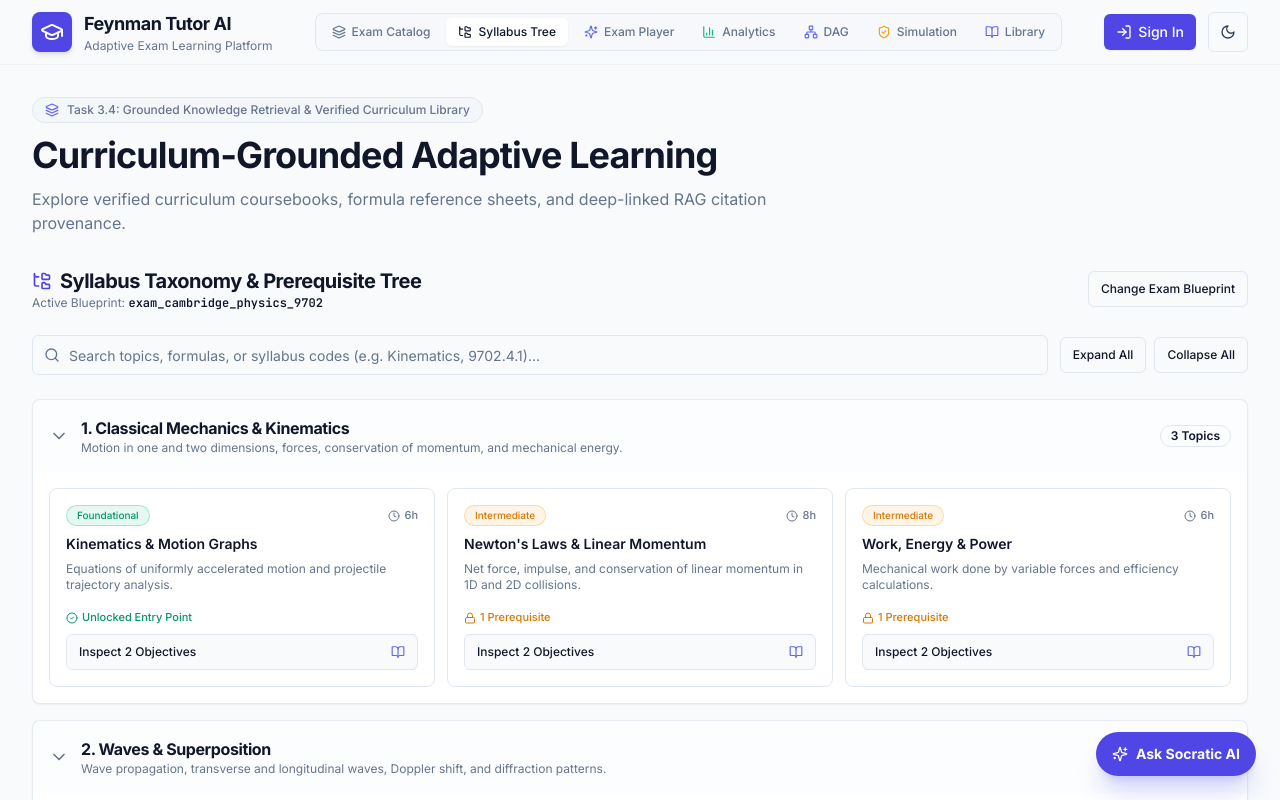
Socratic AI Tutor Drawer Suite › opens Socratic AI Tutor drawer when clicking floating action button
What coordinates should you click on to do the following:
click the button with aria-label "Open Socratic AI Tutor"
I would click on:
 (1176, 754)
Its box is [1096,732,1256,776].
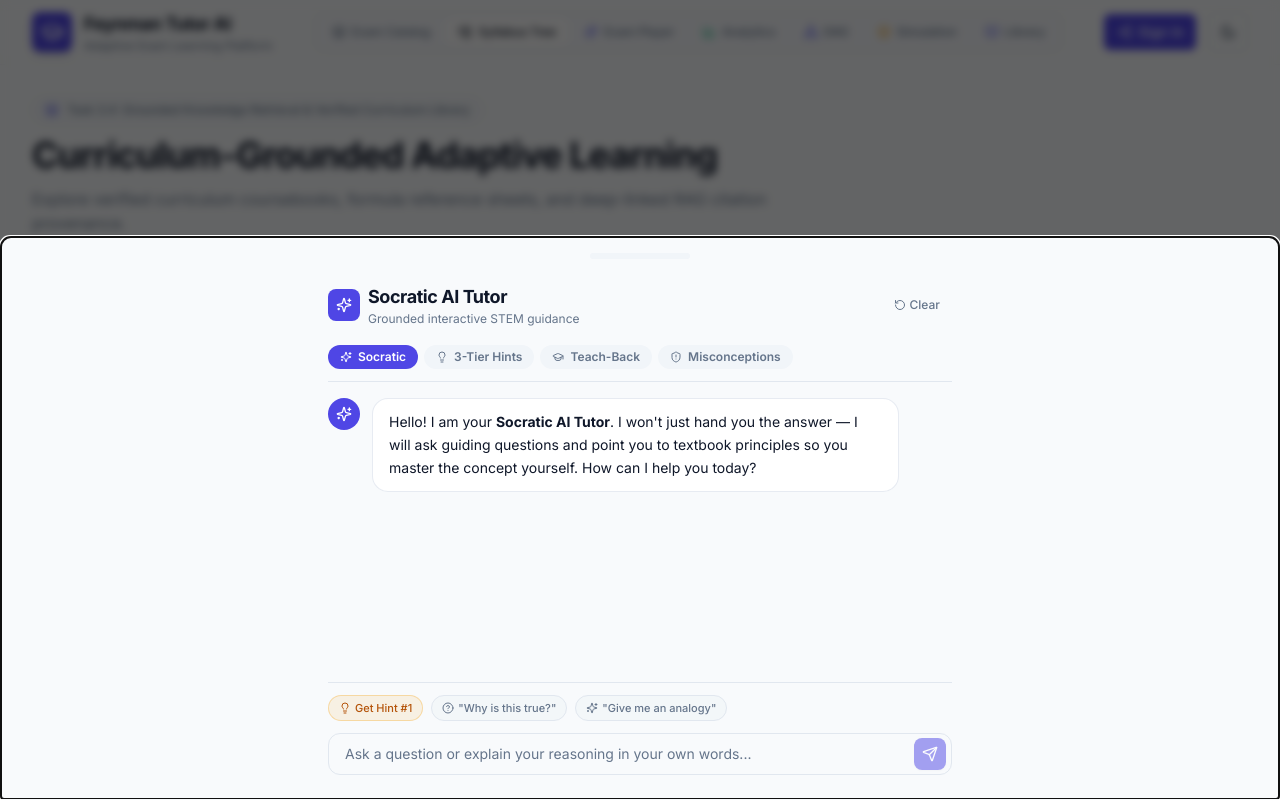
Expected: the heading "Socratic AI Tutor" is shown, [368,286,507,307]
Expected: the text "Grounded interactive STEM guidance" is shown, [368,311,580,327]
